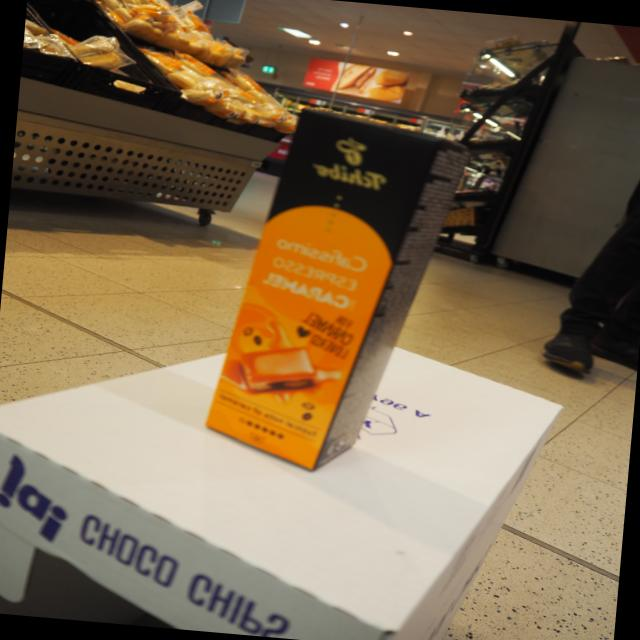Simo Es Caramel: (199, 102, 449, 476)
